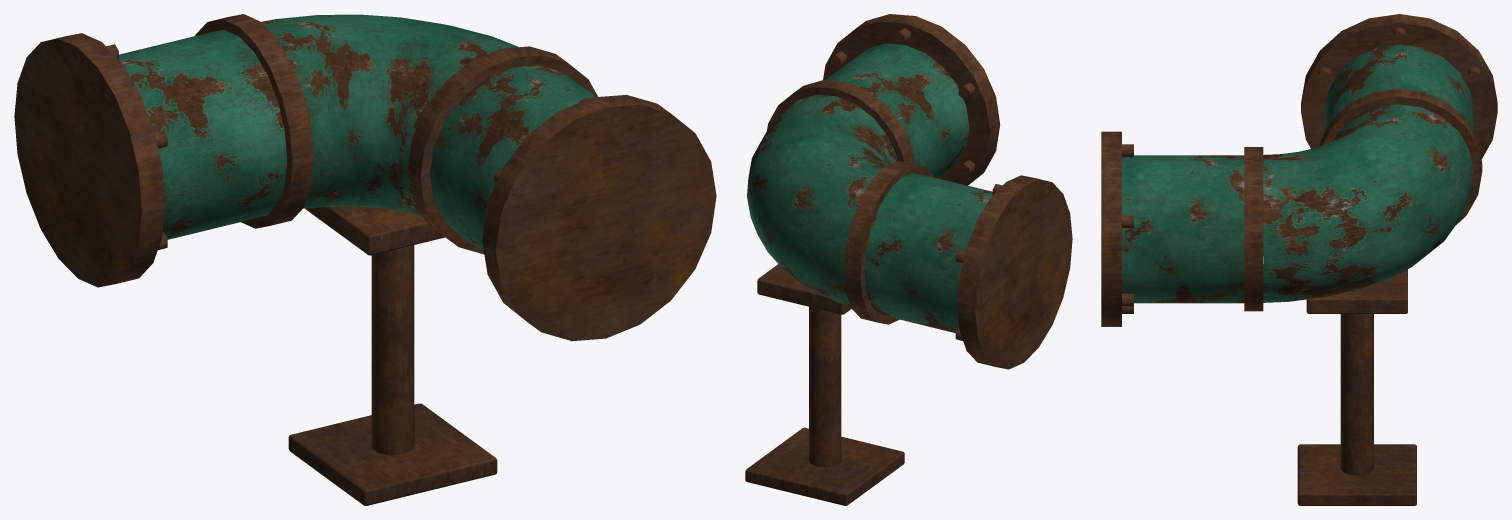
The model's file is prop_pipeElbow.glb.
3 renders of one model, left to right at view 1: azimuth 30°, elevation 25°; view 2: azimuth 150°, elevation 25°; view 3: azimuth 270°, elevation 25°, orthographic. The views are drawn at different scales.
Parts seen in each view (by area): view 1: prop; view 2: prop; view 3: prop.
Part boxes in pixels (box(x1,y1,x2,y2)): prop: box(14, 14, 716, 505); prop: box(745, 14, 1072, 505); prop: box(1101, 14, 1497, 505).
Size of what is drawn, in the model's own units: 0.665 by 0.665 by 0.665.
Materials: 2 (2 with a texture image).
